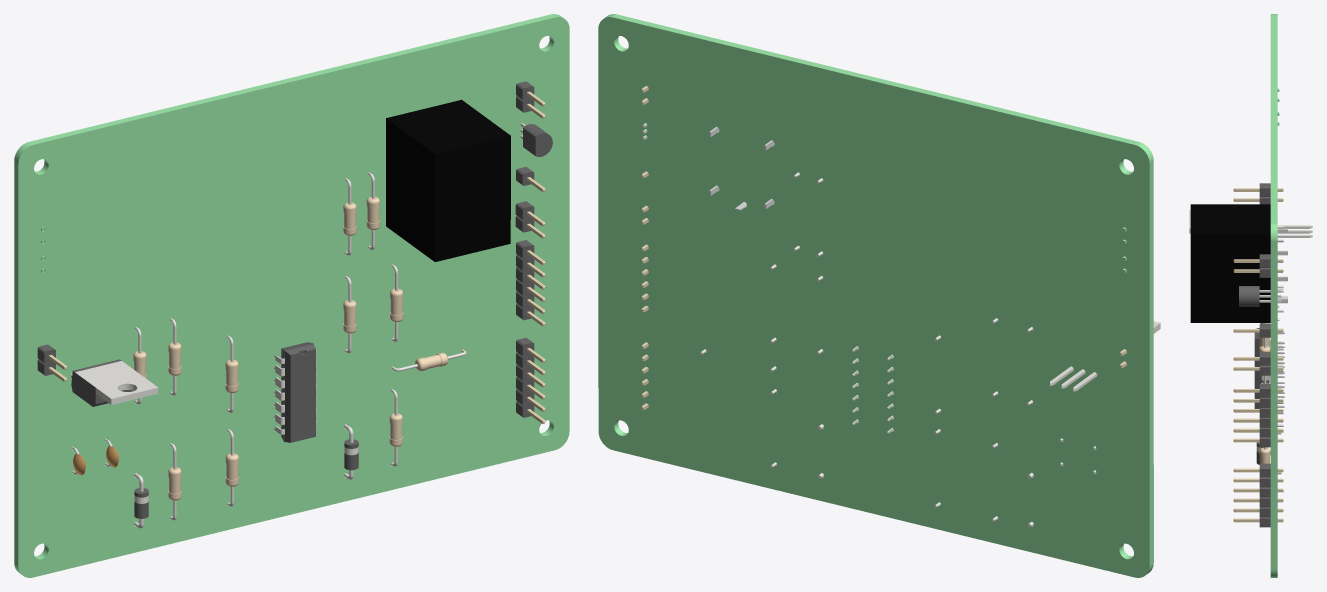
Rendered from onlyPCB.glb.
3 views of the same model, side by side, from view 1: azimuth 30°, elevation 25°; view 2: azimuth 150°, elevation 25°; view 3: azimuth 270°, elevation 25° (orthographic). The views are drawn at different scales.
Visible parts, largest first — view 1: V3_PCB-1, V3_V2_Relay-1; view 2: V3_PCB-1; view 3: V3_PCB-1, V3_V2_Relay-1.
Part boxes in pixels (left/top/right/bottom): V3_PCB-1: left=14, top=14, right=569, bottom=577; V3_V2_Relay-1: left=386, top=99, right=510, bottom=261; V3_PCB-1: left=598, top=14, right=1160, bottom=577; V3_PCB-1: left=1189, top=14, right=1312, bottom=577; V3_V2_Relay-1: left=1190, top=204, right=1287, bottom=322.
Size of the model in its own units: 0.12 by 0.09 by 0.0285.
